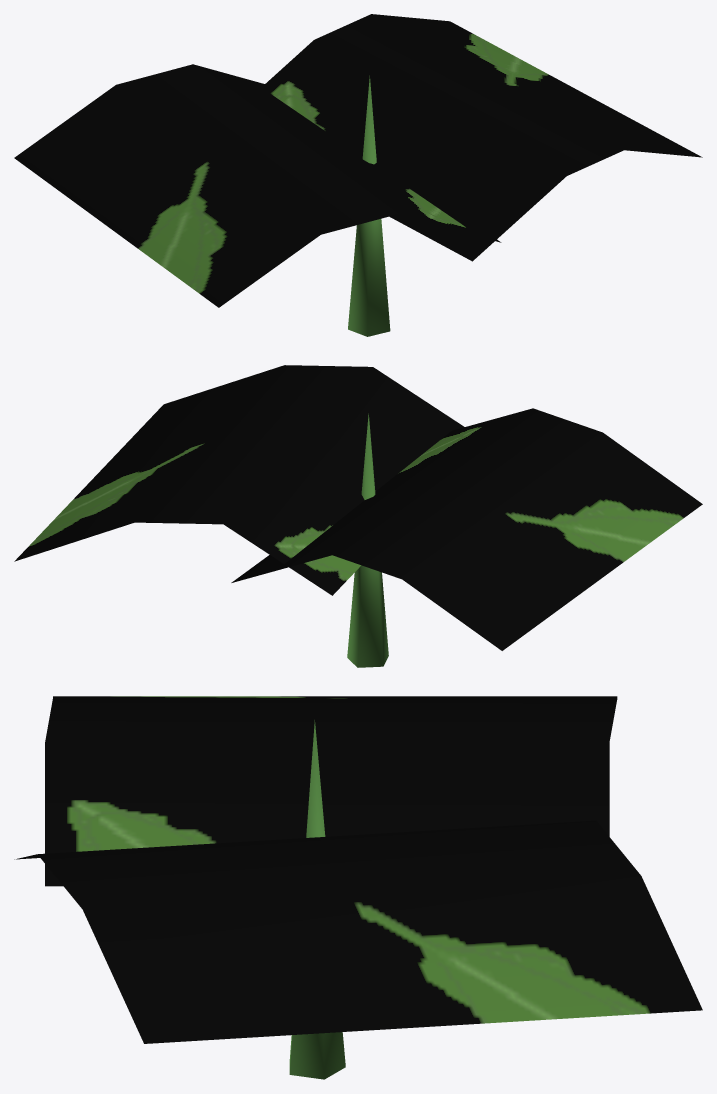
File: TomatoPlant_Stage1.fbx
The picture shows the model from 3 angles, top to bottom: view 1: azimuth 30°, elevation 25°; view 2: azimuth 150°, elevation 25°; view 3: azimuth 270°, elevation 25°; orthographic projection. The views are drawn at different scales.
Parts seen in each view (by area): view 1: Cylinder; view 2: Cylinder; view 3: Cylinder.
Boxes of the visible parts, box(x1,y1,x2,y2) form: Cylinder: box(14, 14, 702, 336); Cylinder: box(14, 365, 702, 667); Cylinder: box(14, 696, 702, 1079).
Size of the model in its own units: 117 by 54.66 by 98.05.
Materials: 2 (1 with a texture image).
